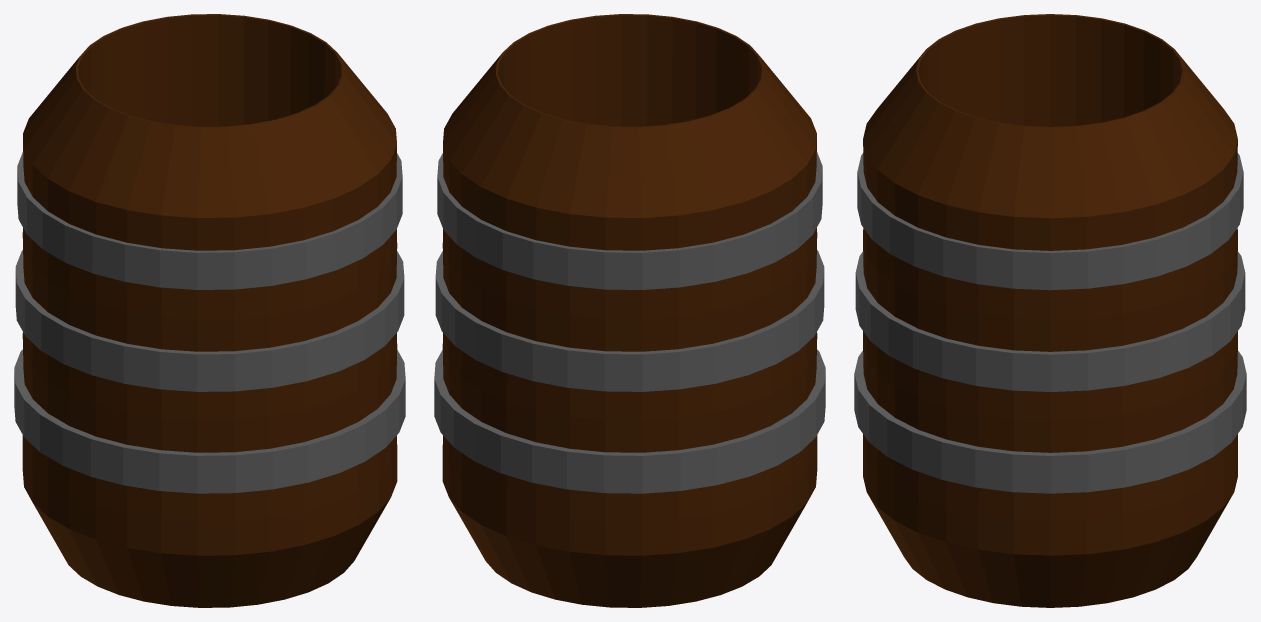
Rendered from barrel2.fbx.
3 views of the same model, side by side, from view 1: azimuth 30°, elevation 25°; view 2: azimuth 150°, elevation 25°; view 3: azimuth 270°, elevation 25° (orthographic).
Parts seen in each view (by area): view 1: Barriail 2; view 2: Barriail 2; view 3: Barriail 2.
Boxes of the visible parts, x1=… form: Barriail 2: x1=14, y1=14, x2=405, y2=607; Barriail 2: x1=434, y1=14, x2=825, y2=607; Barriail 2: x1=854, y1=14, x2=1246, y2=607.
Bounding box in the file's own units: 211 × 282 × 211.
